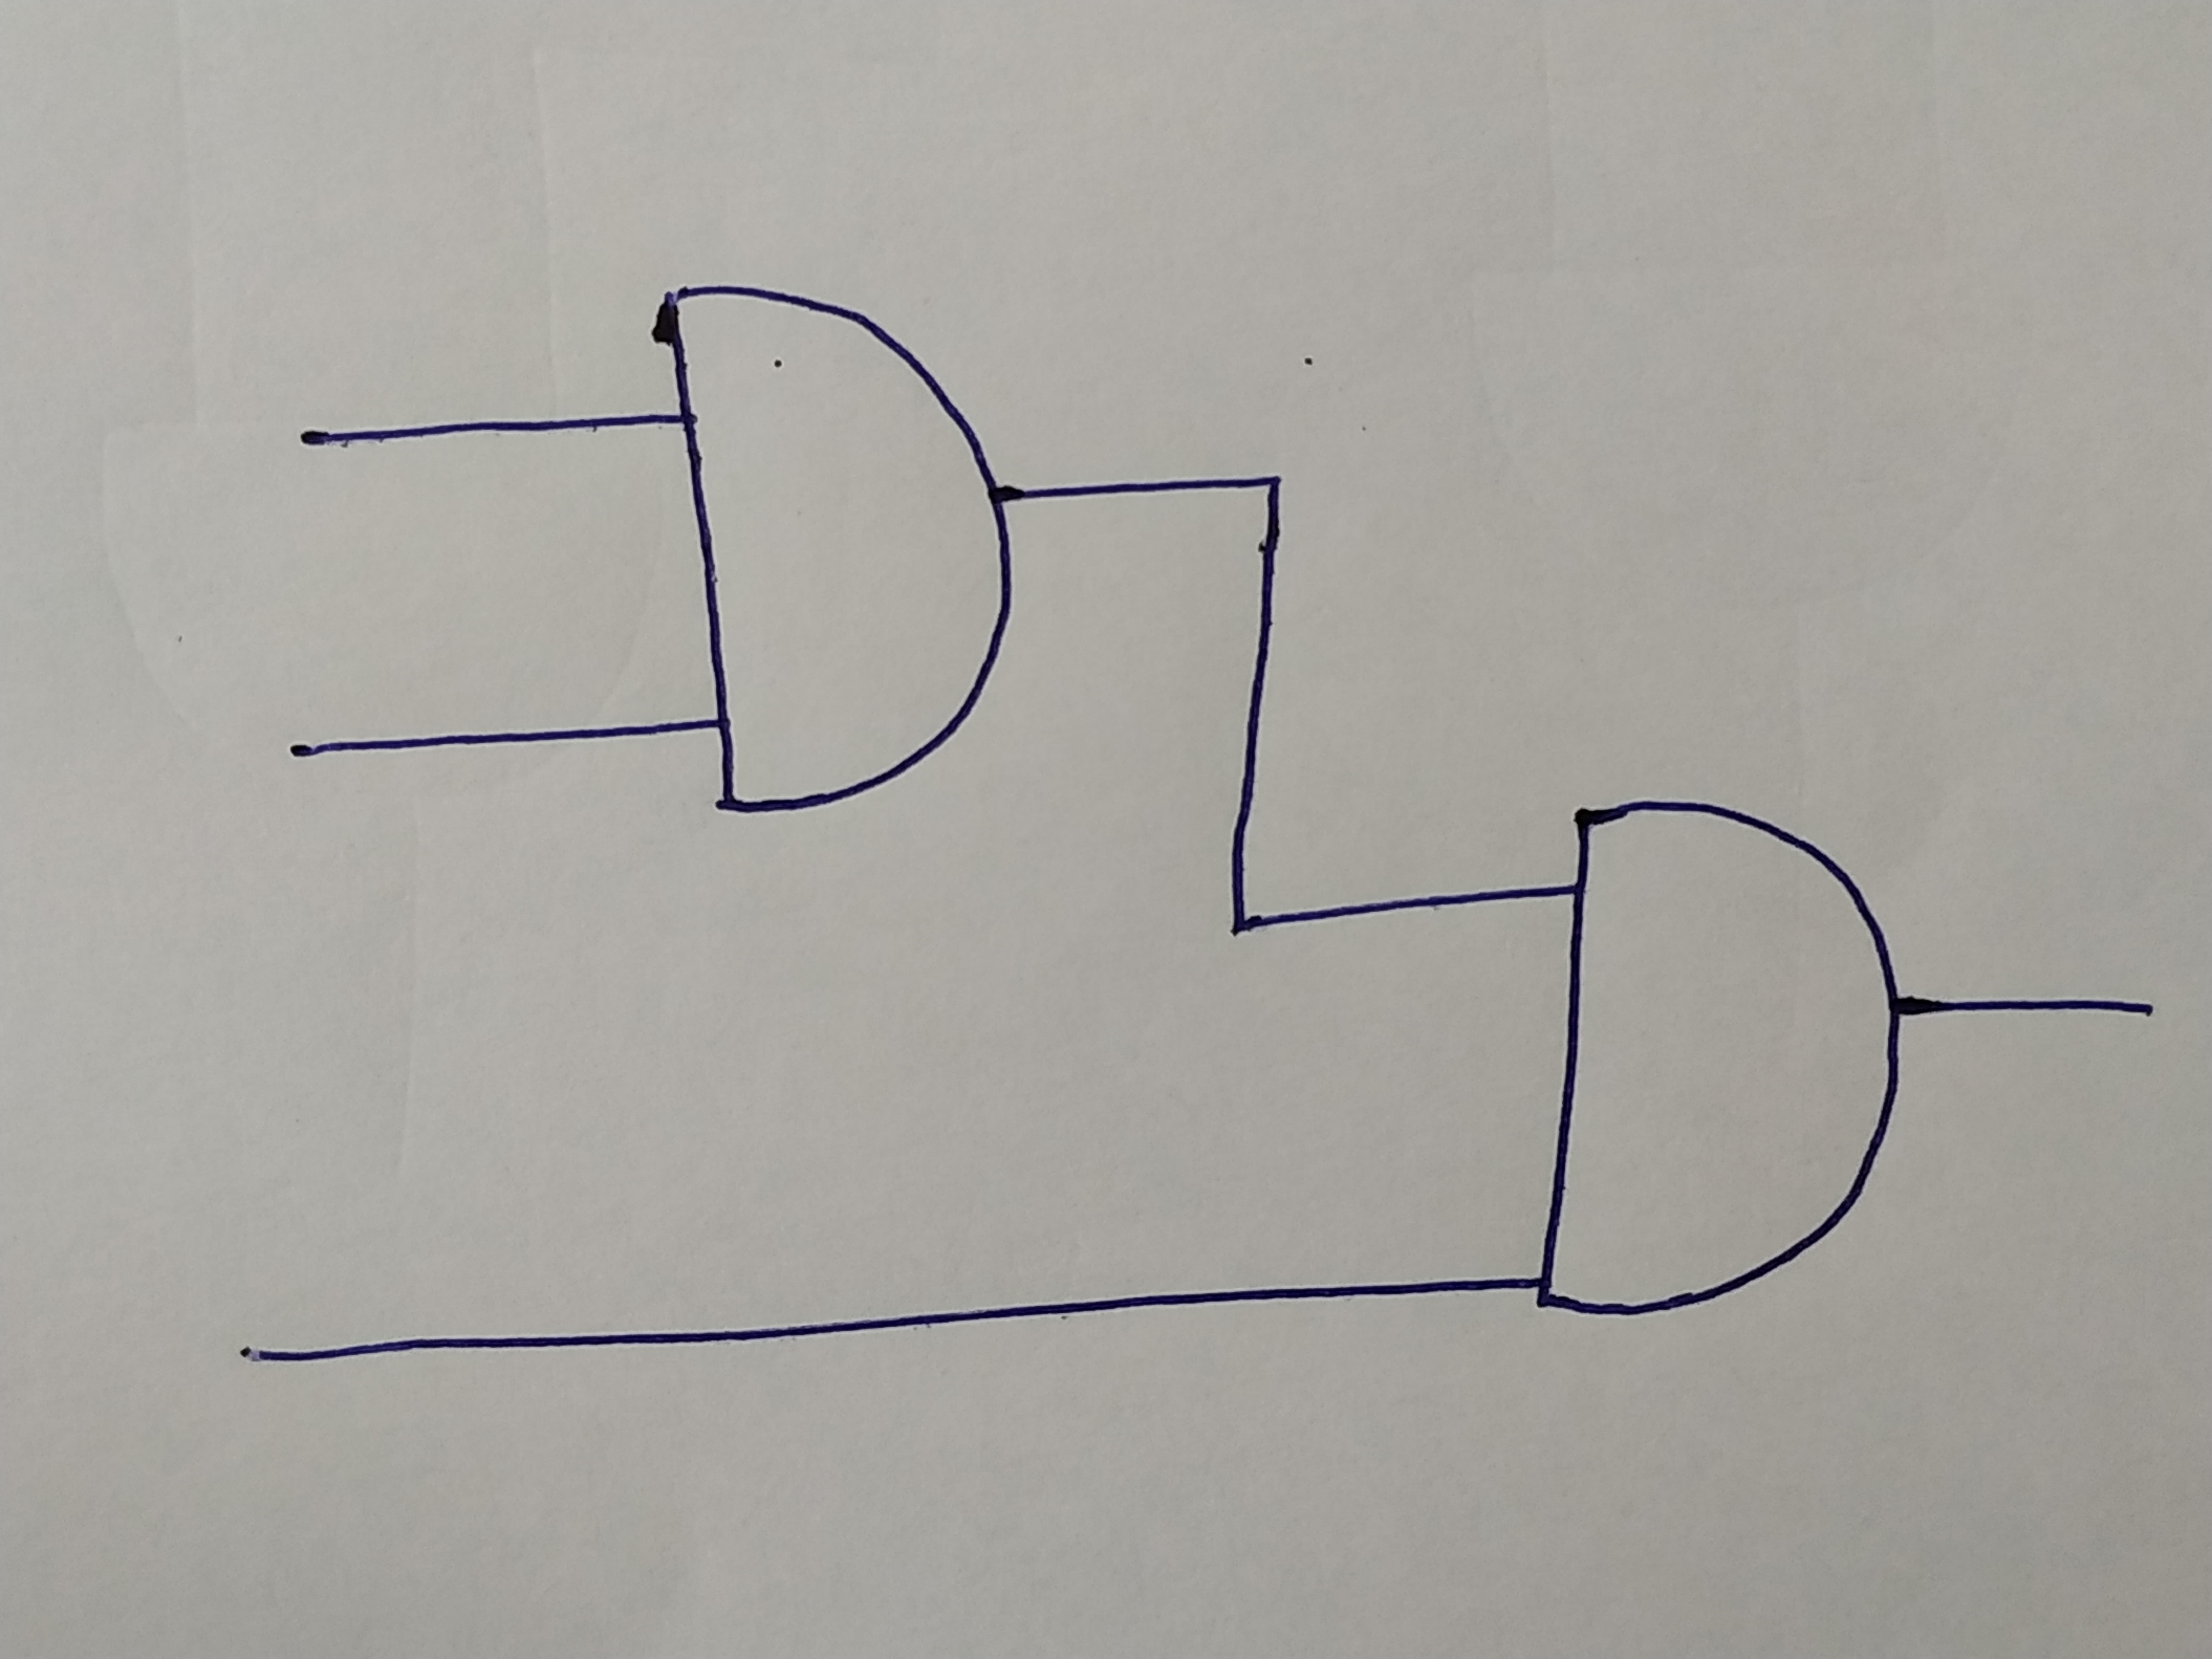and: (662, 289, 1005, 819), (1541, 805, 1892, 1312)
